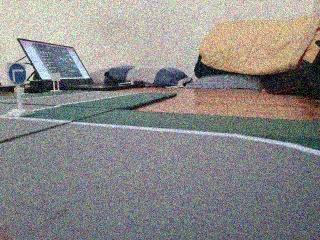right: (4, 59, 31, 88)
